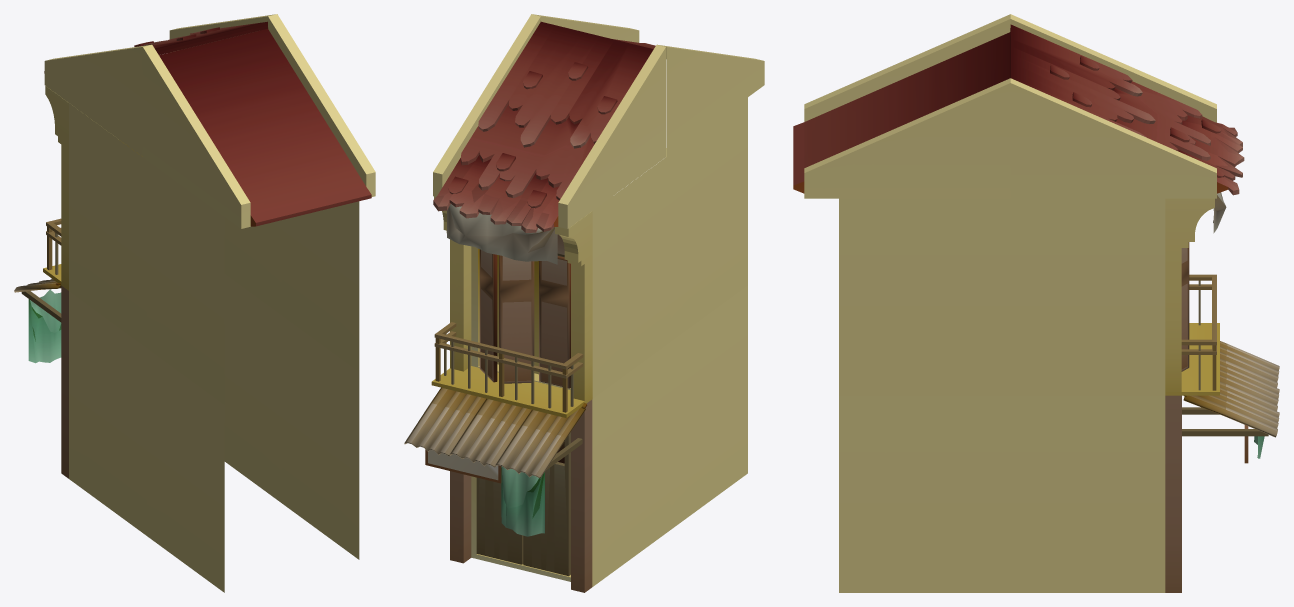
Rendered from SM_Facade_OldQuarter_Simple_02.fbx.
3 views of the same model, side by side, from view 1: azimuth 30°, elevation 25°; view 2: azimuth 150°, elevation 25°; view 3: azimuth 270°, elevation 25° (orthographic). The views are drawn at different scales.
Visible parts, largest first — view 1: SM_Facade_OldQuarter_Simple_02; view 2: SM_Facade_OldQuarter_Simple_02; view 3: SM_Facade_OldQuarter_Simple_02.
Boxes of the visible parts, bbox=[...] form: SM_Facade_OldQuarter_Simple_02: bbox=[14, 14, 375, 592]; SM_Facade_OldQuarter_Simple_02: bbox=[404, 14, 764, 592]; SM_Facade_OldQuarter_Simple_02: bbox=[793, 14, 1279, 592].
Bounding box in the file's own units: 307 × 1035 × 895.
